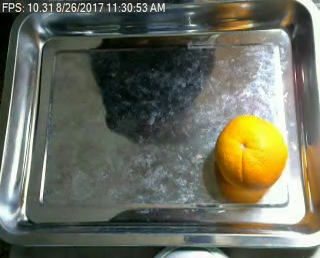Orange: (216, 113, 286, 189)
